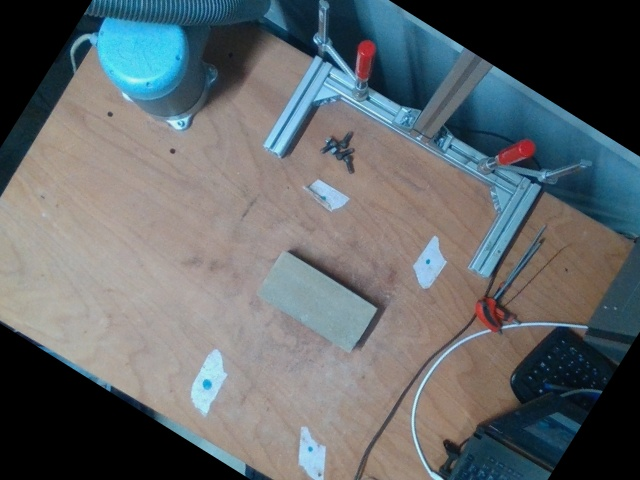brick: (257, 251, 376, 351)
